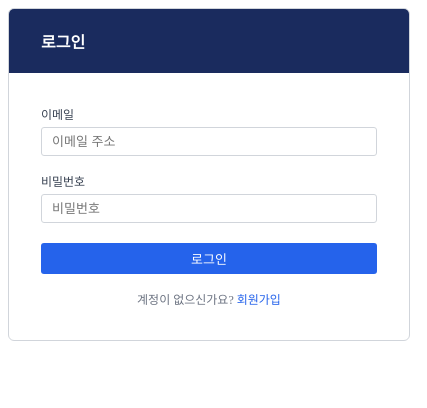
it: LoginForm › 서버 오류 시 오류 메시지를 표시한다
Type "test@example.com" into the field labelled "이메일".
click(209, 142); type("test@example.com")  # box [41,127,377,156]
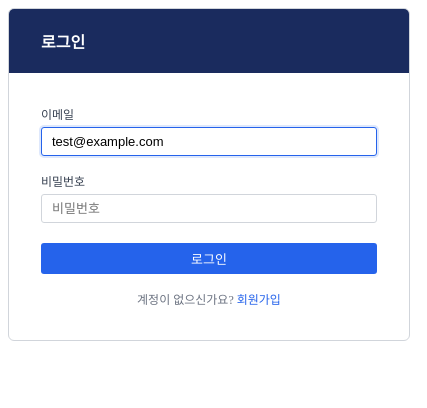
Type "wrongpass" into the password field labelled "비밀번호".
click(209, 208); type("wrongpass")  # box [41,194,377,223]
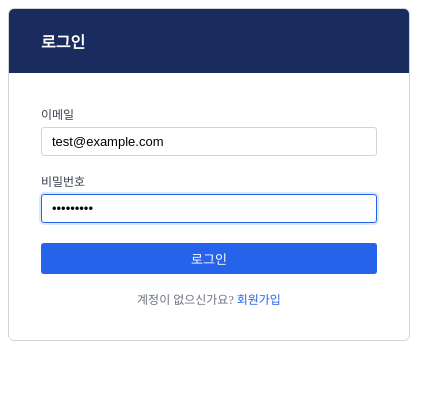
Click the button "로그인".
click(209, 258)  # box [41,243,377,274]
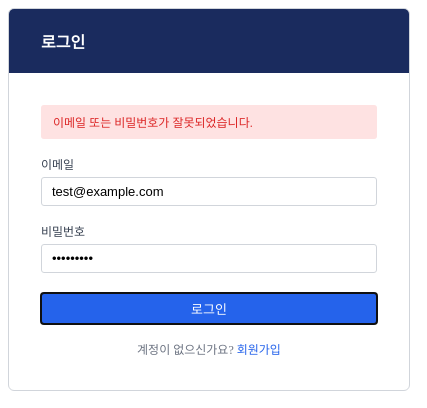
expect the text "이메일 또는 비밀번호가 잘못되었습니다." is shown: met, box [41,105,377,139]
